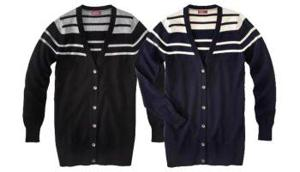C_cardigan sweater: (146, 9, 274, 167), (25, 7, 146, 166)
